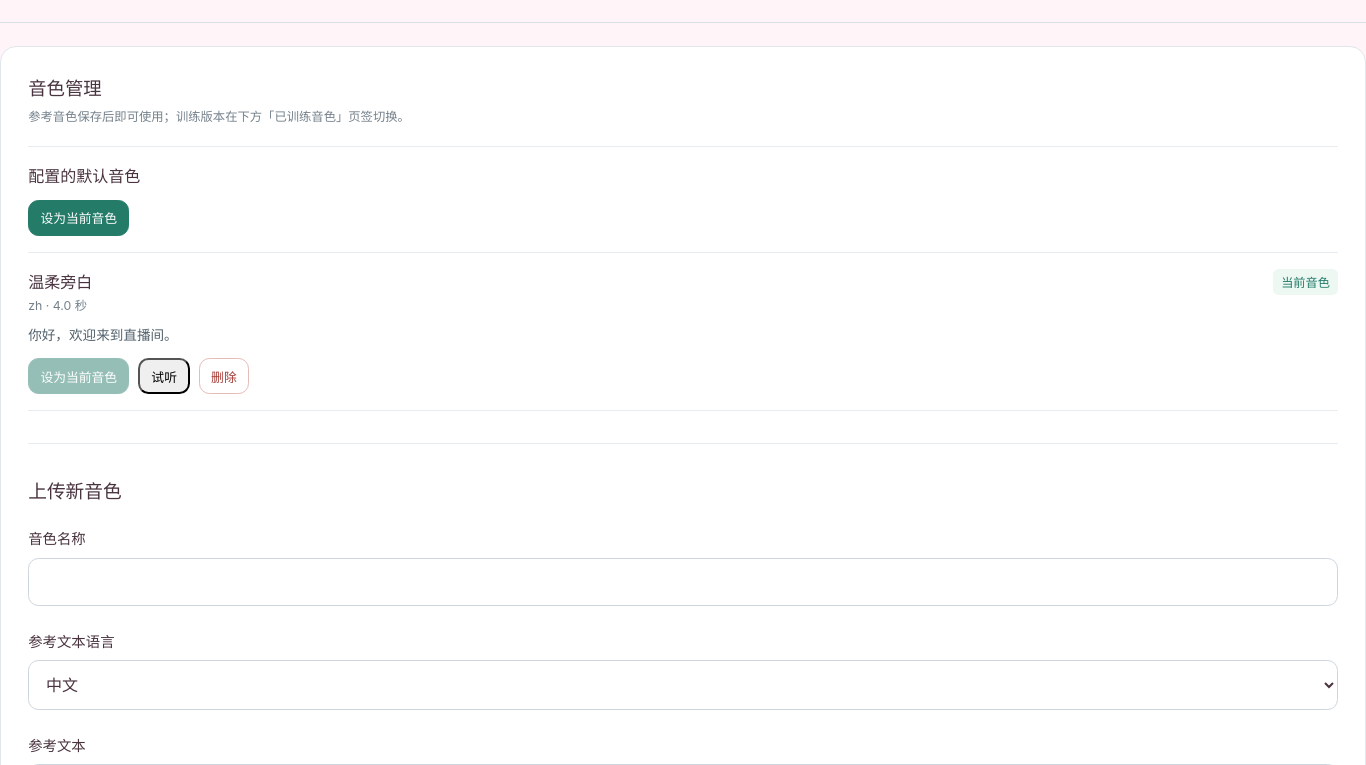
音色试听进度 › 执行端断开时显示真实 unknown 结果及断开原因
Click the button "试听": {"x": 164, "y": 376} x1=138 y1=358 x2=190 y2=394
Wait 1000 ms
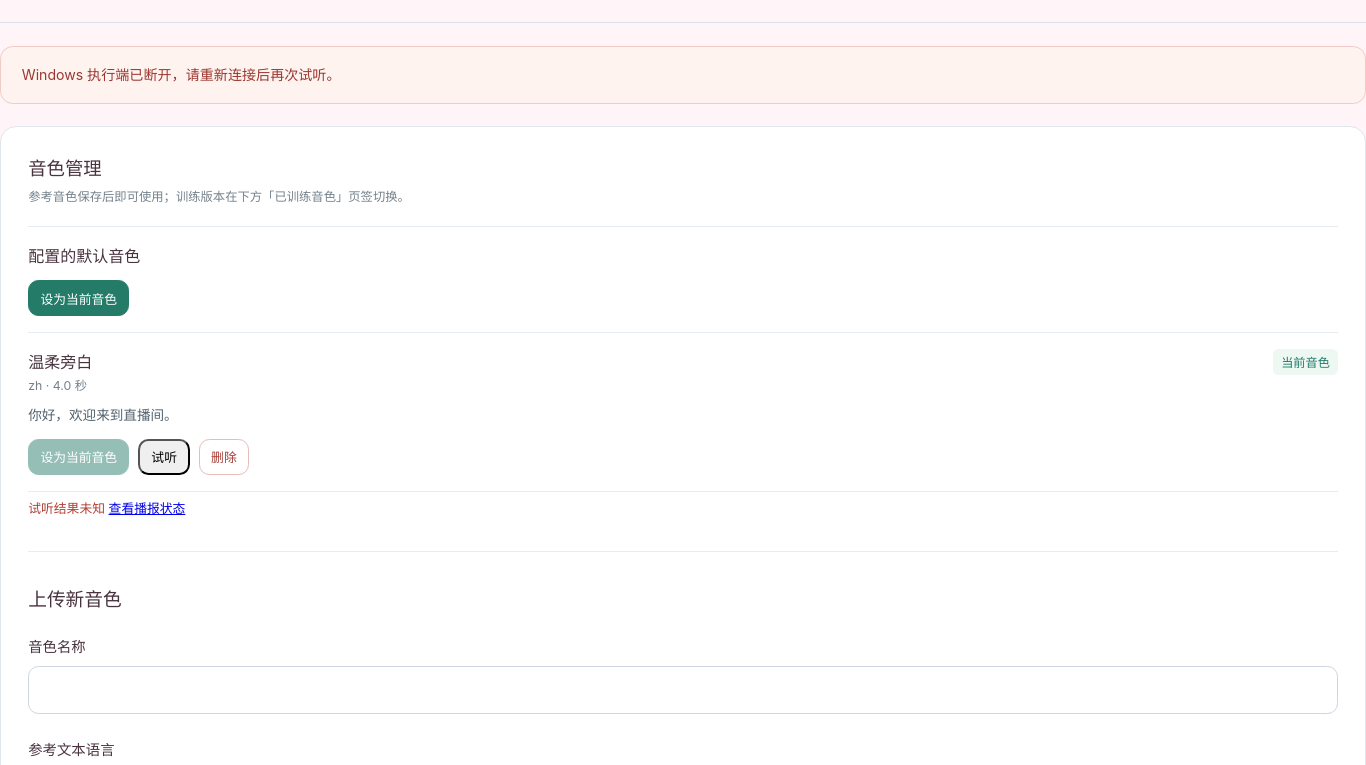
Check: the text "试听结果未知 查看播报状态" is shown, box x1=28 y1=501 x2=185 y2=516
Check: the message "Windows 执行端已断开，请重新连接后再次试听。" is shown, box x1=0 y1=46 x2=1365 y2=104
